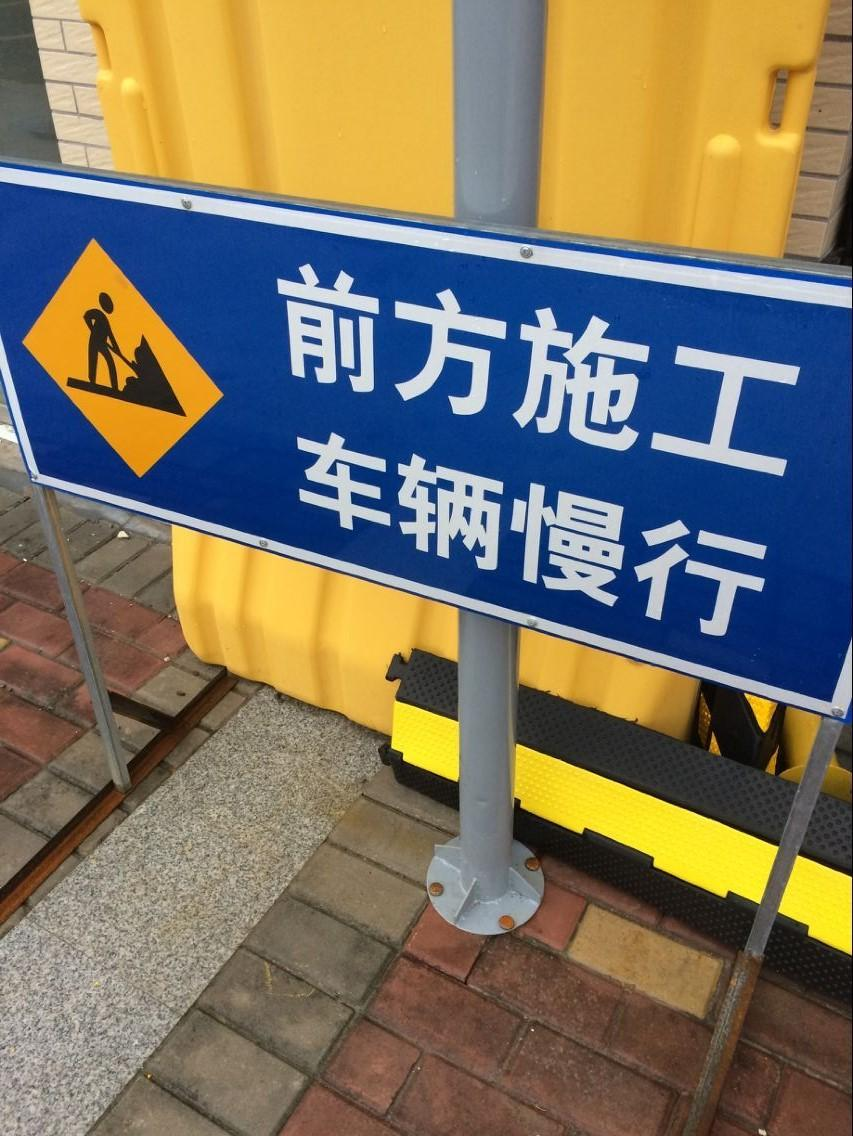sign: (8, 183, 838, 710)
